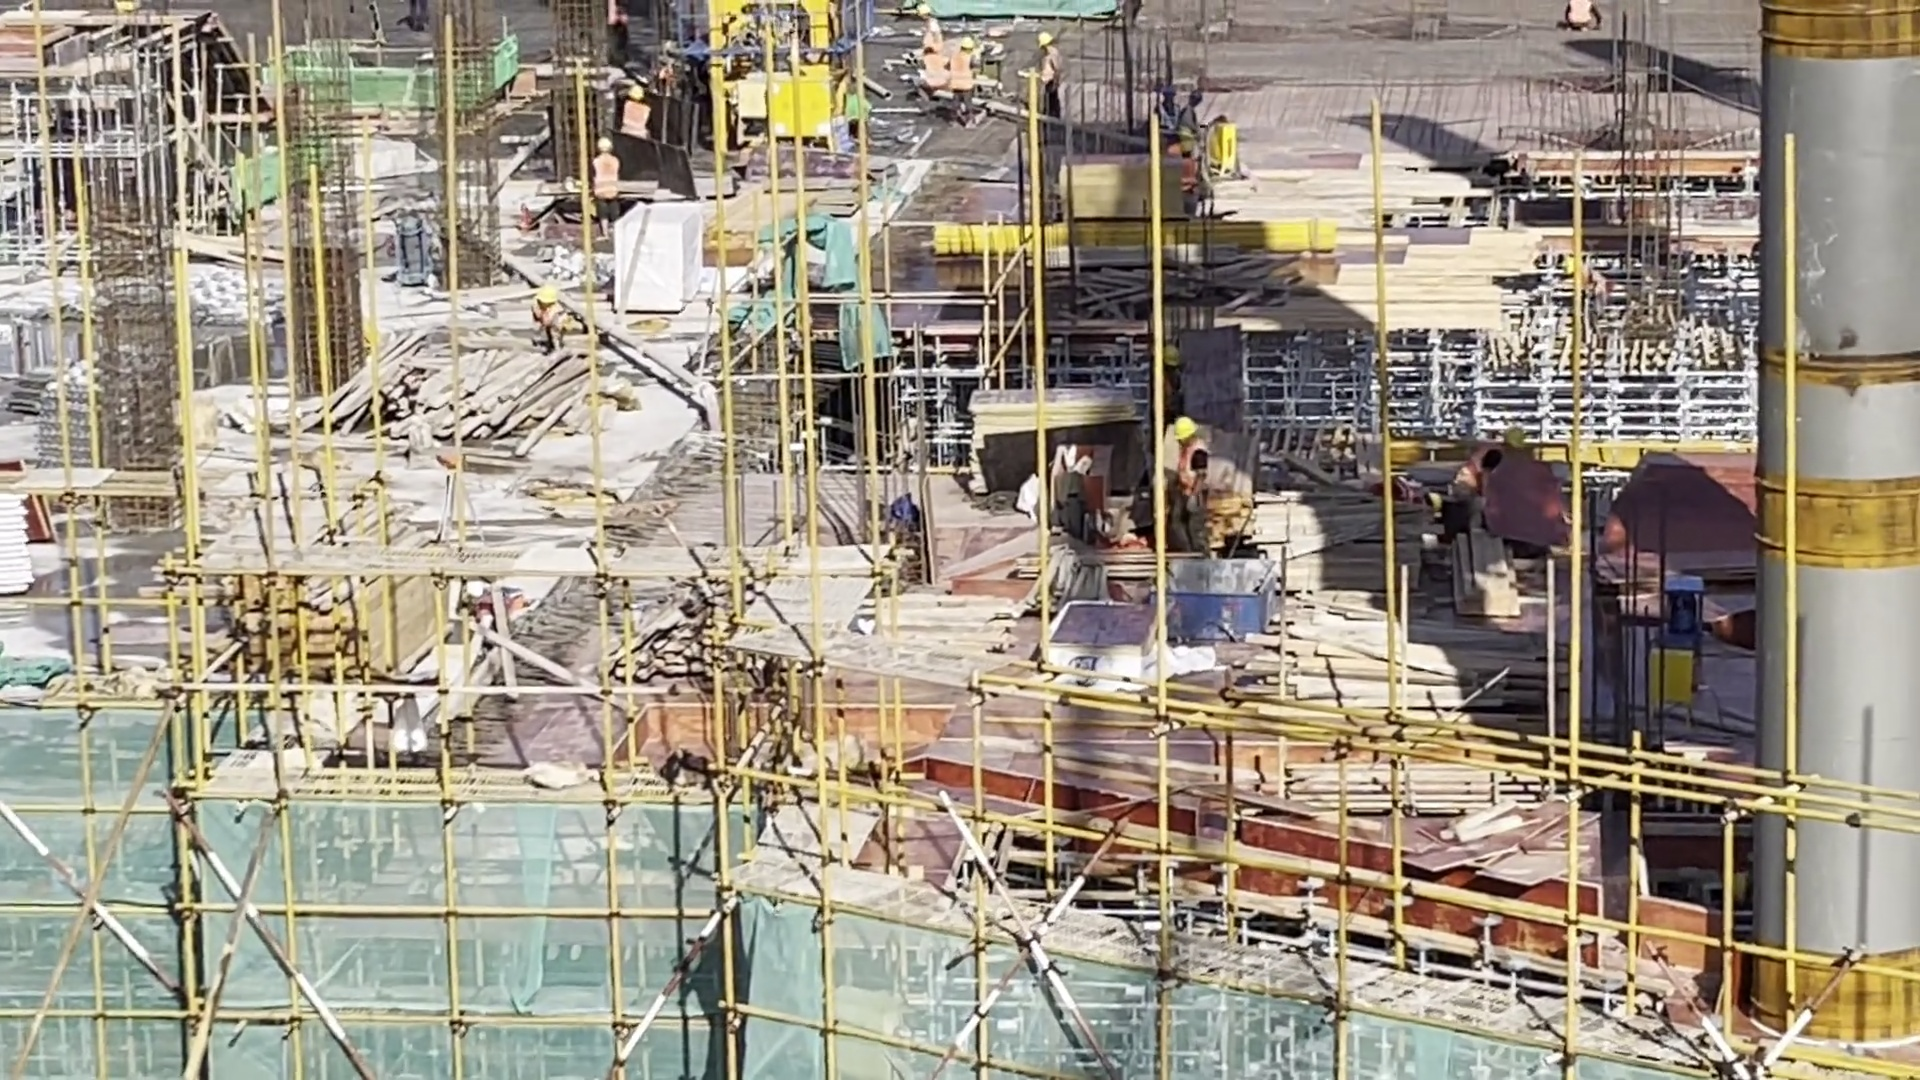helmet: (1498, 421, 1534, 452), (1170, 416, 1203, 447), (1159, 341, 1188, 369), (1036, 32, 1063, 56), (537, 285, 560, 308), (625, 82, 646, 101), (958, 35, 978, 55), (595, 135, 612, 152)
person: (1438, 412, 1533, 544), (1163, 415, 1216, 540), (1034, 31, 1072, 137), (587, 130, 627, 231), (952, 23, 987, 134), (1169, 130, 1205, 226), (916, 43, 954, 122), (620, 81, 657, 139), (1154, 85, 1179, 136), (1568, 1, 1602, 34)
vest: (1176, 444, 1209, 502), (593, 150, 620, 210), (918, 48, 952, 91), (621, 103, 651, 141), (1181, 154, 1199, 197)
